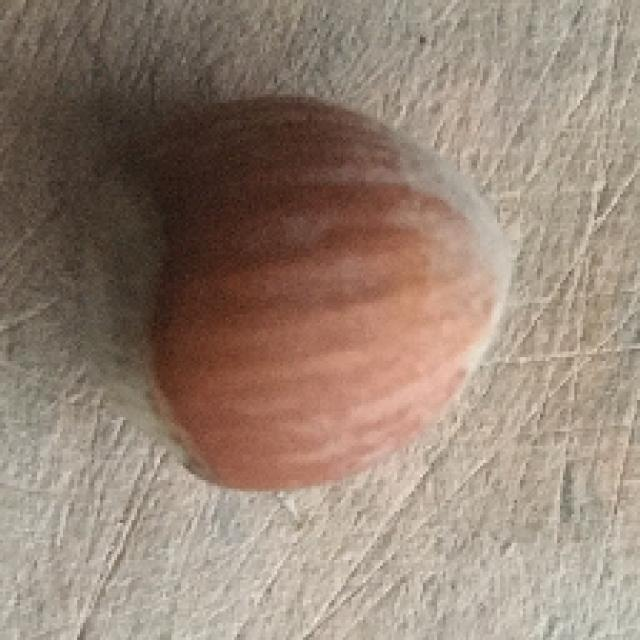qualityHazelnut: (70, 95, 520, 491)
